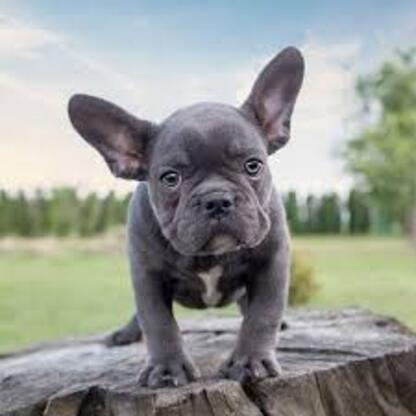bulldog: (63, 40, 302, 393)
